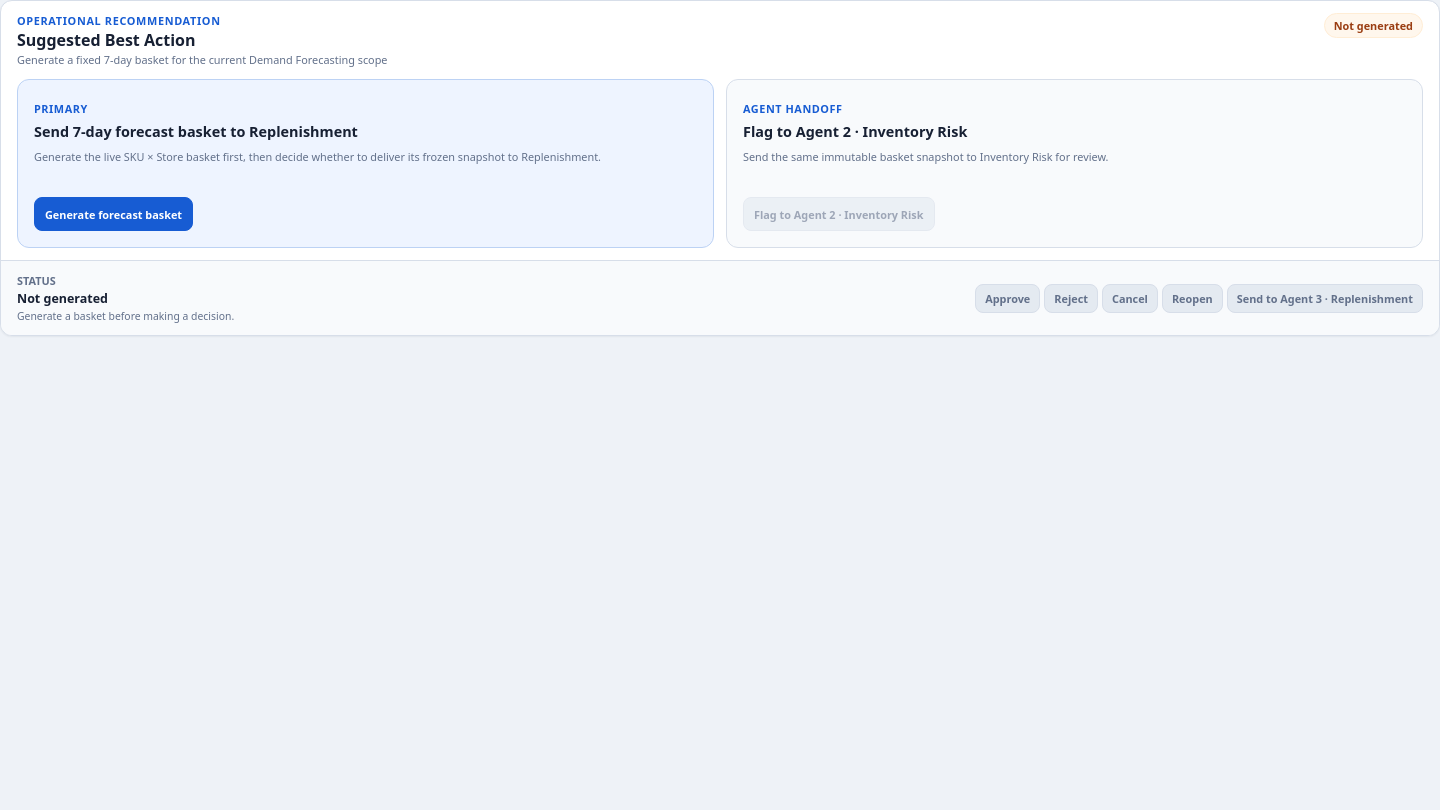
Scenario: DemandSuggestedActions › defaults to actionable rows, exposes all rows, and presents route, signals, and ETA honestly
Click the button "Generate forecast basket" at (114, 214), box [34,197,193,231]
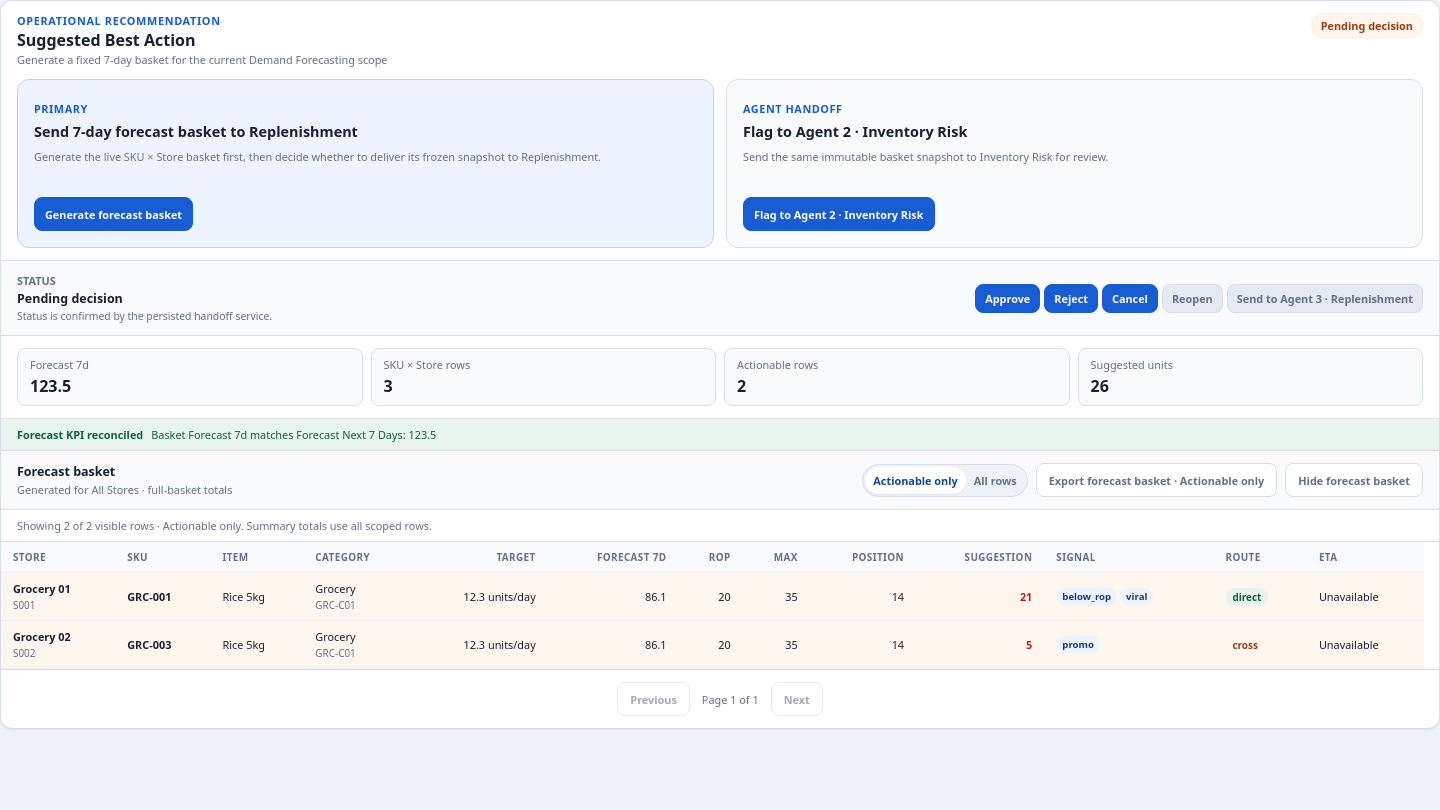
Check: the text "Forecast KPI reconciled" is shown, box [17,427,143,442]
Check: the text "GRC-001" is shown, box [127,589,171,604]
Check: the text "viral" is shown, box [1120,588,1153,605]
Click the button "All rows" at (995, 480), box [966,466,1025,494]
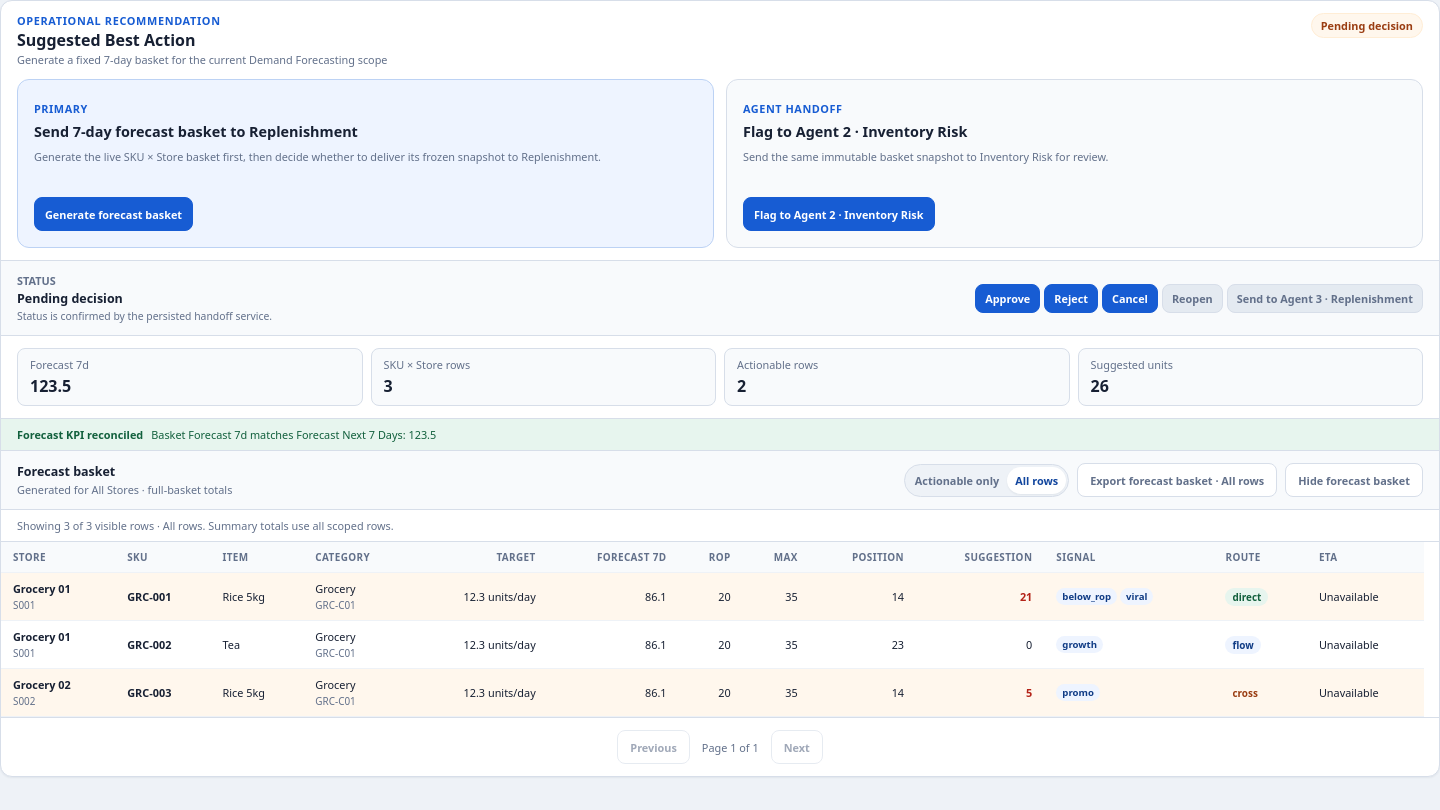
Check: the text "GRC-002" is shown, box [127,637,171,652]
Check: the text "growth" is shown, box [1056,636,1103,653]
Check: the text "flow" is shown, box [1226,636,1261,654]
